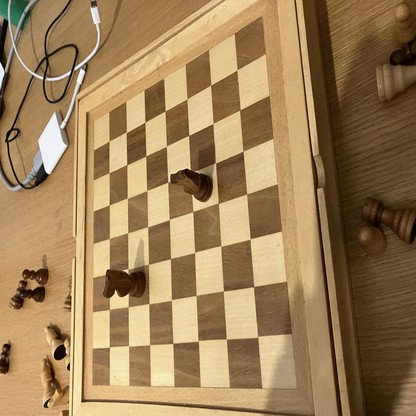bishop_white: (42, 358, 56, 407)
knight_black: (171, 170, 213, 202), (103, 270, 145, 299)
knight_white: (48, 386, 70, 409)
pawn_black: (10, 280, 25, 308), (22, 269, 48, 285), (20, 288, 45, 302), (0, 344, 8, 374)
pawn_white: (359, 226, 389, 253), (395, 4, 416, 40)
queen_white: (44, 325, 66, 361)
rock_black: (362, 199, 416, 241)
